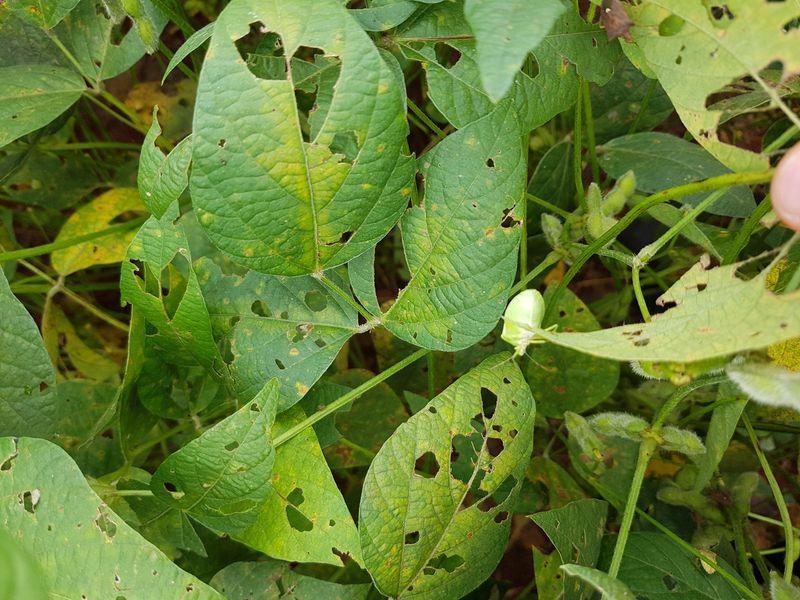Euschistus_heros_adulto: (588, 1, 643, 52), (704, 482, 739, 514)
Euschistus_heros_ninfa: (689, 542, 725, 579)
Nezara_viridula_adulto: (489, 286, 563, 374)
